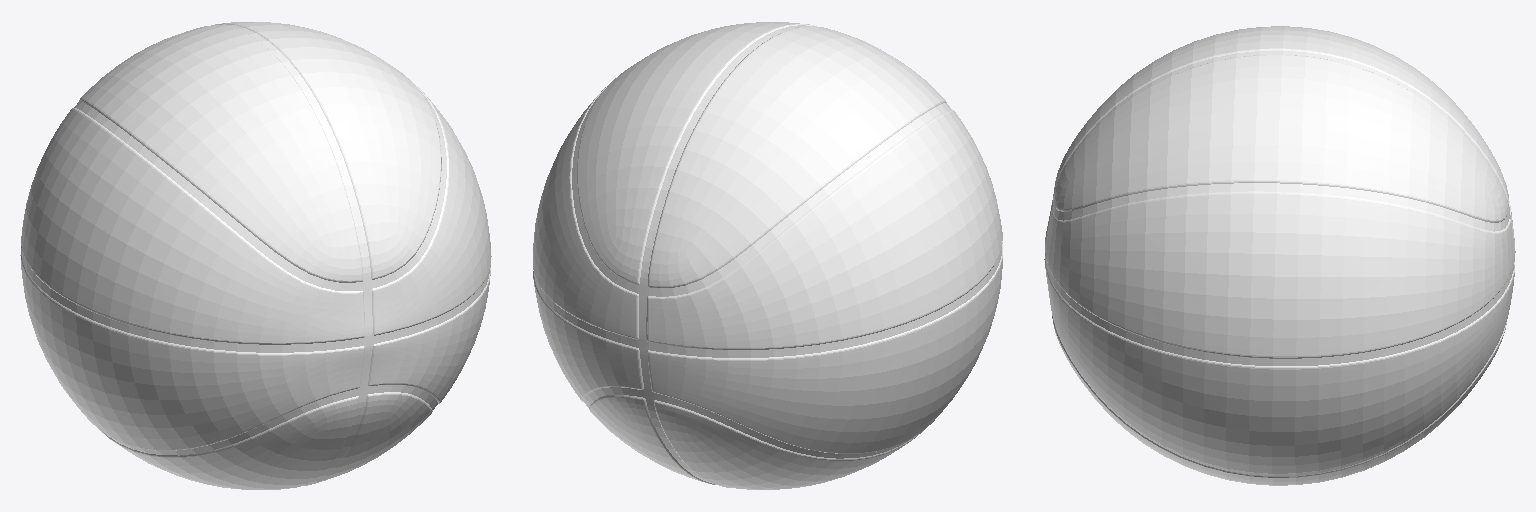
URDF robot description (basketball):
<?xml version="0.0" ?>
<robot name="basketball">
  <link name="basketball_link">
    <inertial>
      <origin rpy="0 0 0" xyz="0 0 0"/>
       <mass value=".25"/>
       <inertia ixx="0" ixy="0" ixz="0" iyy="0" iyz="0" izz="0"/>
    </inertial>
    <visual>
      <origin rpy="-0.55 0 0" xyz="-0.02 -0.094 0.0765"/>
      <geometry>
		    <mesh filename="package://safemotions/description/meshes/obstacles/visual/basketball_red.obj" scale="0.0034 0.0034 0.0034"/>
      </geometry>
      <material name="white">
        <color rgba="1 1 1 1"/>
      </material>
    </visual>
    <collision>
      <origin rpy="-0.55 0 0" xyz="-0.02 -0.094 0.0765"/>
      <geometry>
		    <mesh filename="package://safemotions/description/meshes/obstacles/collision/basketball.obj" scale="0.0034 0.0034 0.0034"/>
      </geometry>
    </collision>
  </link>
</robot>

--- Facts derived from the render (not from the file) ---
The picture shows the robot from 3 angles, left to right: view 1: azimuth 30°, elevation 25°; view 2: azimuth 150°, elevation 25°; view 3: azimuth 270°, elevation 25°; orthographic projection.
Model basketball with 1 links and 0 joints (none), rooted at basketball_link, posed every joint at zero.
Visible links, largest first — view 1: basketball_link; view 2: basketball_link; view 3: basketball_link.
Link boxes in pixels (bbox=[...]): basketball_link: bbox=[20, 22, 491, 489]; basketball_link: bbox=[533, 22, 1002, 489]; basketball_link: bbox=[1044, 26, 1515, 485].
Bounding box of the posed robot: 0.2367 × 0.2417 × 0.2368 m (x, y, z).
Meshes: 1 distinct files referenced, 1 mesh visuals loaded (1 OBJ).